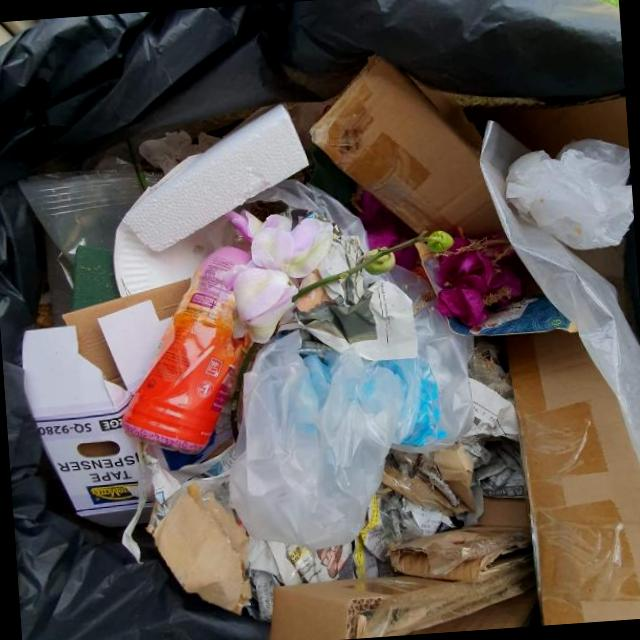carton: (24, 275, 191, 529), (508, 330, 640, 625), (310, 52, 511, 244), (270, 561, 538, 640), (150, 484, 250, 616), (110, 216, 235, 296), (391, 526, 537, 581)
chai_nhua: (119, 226, 254, 454)
giay: (244, 342, 527, 622)
tui_ni_long: (248, 178, 476, 457), (226, 328, 404, 549), (19, 157, 143, 318), (504, 141, 634, 253), (239, 550, 265, 620)
xop: (124, 103, 308, 252)
